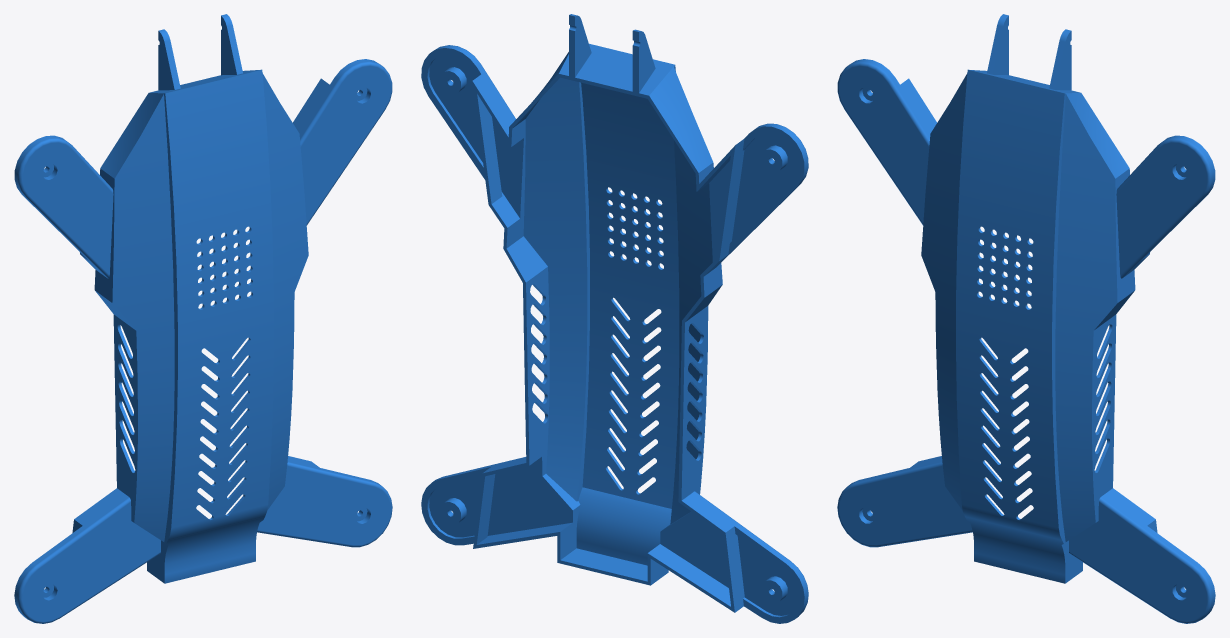
File: Main frame_MIR.gltf
The picture shows the model from 3 angles, left to right: view 1: azimuth 30°, elevation 25°; view 2: azimuth 150°, elevation 25°; view 3: azimuth 330°, elevation 25°; orthographic projection. The views are drawn at different scales.
Visible parts, largest first — view 1: Solid1; view 2: Solid1; view 3: Solid1.
Boxes of the visible parts, left/top/right/bottom form: Solid1: left=14, top=14, right=392, bottom=623; Solid1: left=421, top=14, right=808, bottom=623; Solid1: left=837, top=14, right=1215, bottom=623.
Size of the model in its own units: 0.123 by 0.1737 by 0.019.
